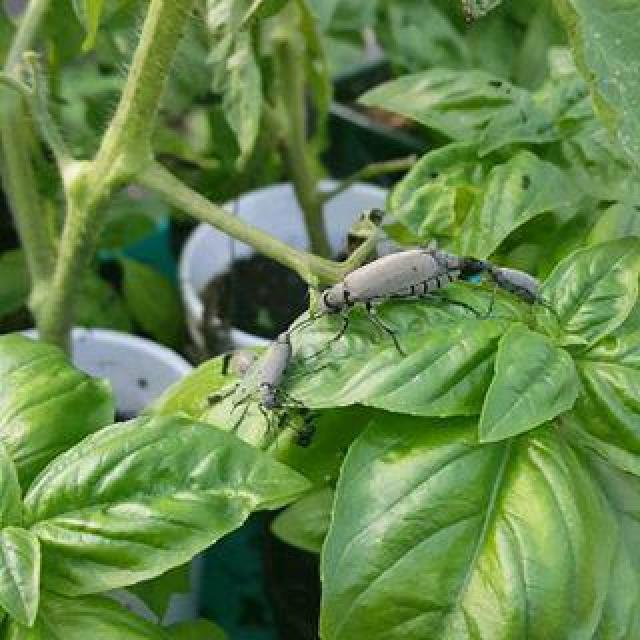BlisterBeetle-Adult-: (293, 239, 488, 354), (245, 325, 308, 423), (480, 256, 567, 324)
